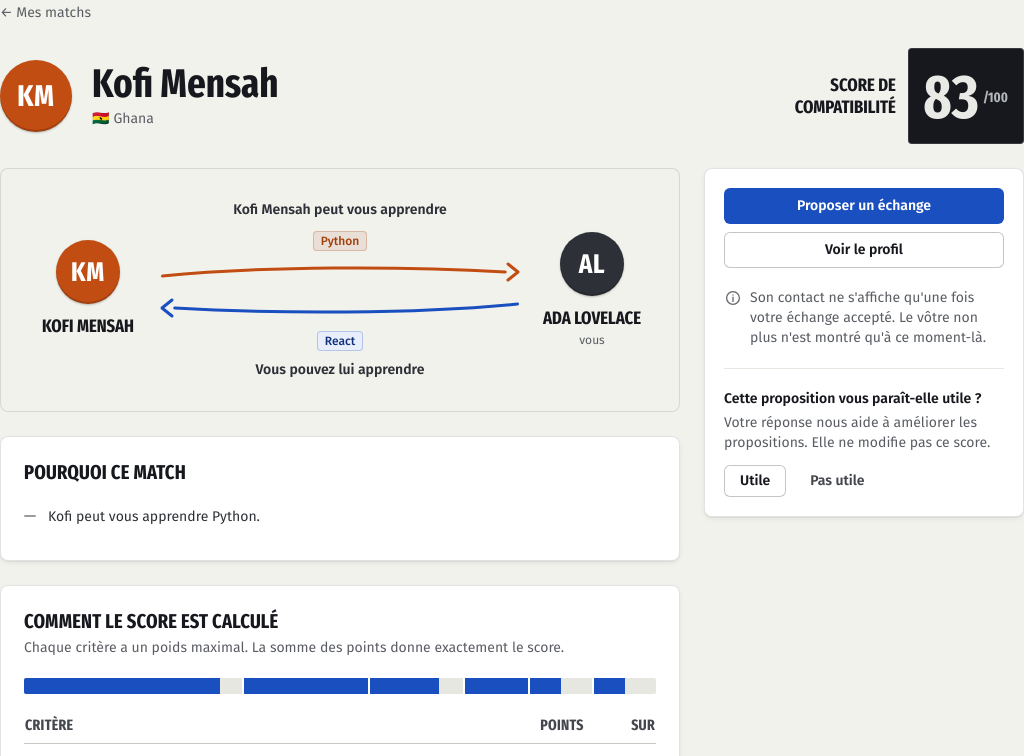
Test: détail d un match › propose un échange
This screenshot has width=1024, height=756.
Click the button "Proposer un échange" at (864, 206), box left=724, top=188, right=1004, bottom=224
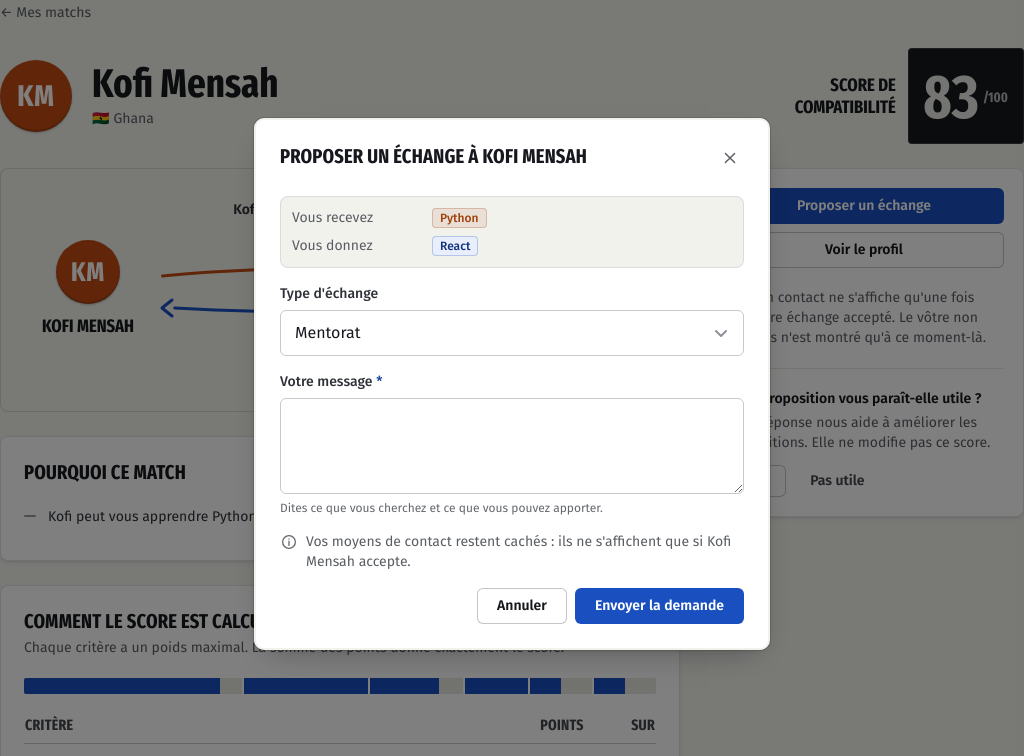
Result: the dialog shows "Vous recevez" at left=292, top=209, right=373, bottom=226
Result: the dialog shows "ne s'affichent que si Kofi Mensah accepte" at left=306, top=533, right=731, bottom=570
Type "Bonjour Kofi" into the text box labelled "Votre message*" at (512, 446), box left=280, top=398, right=744, bottom=494
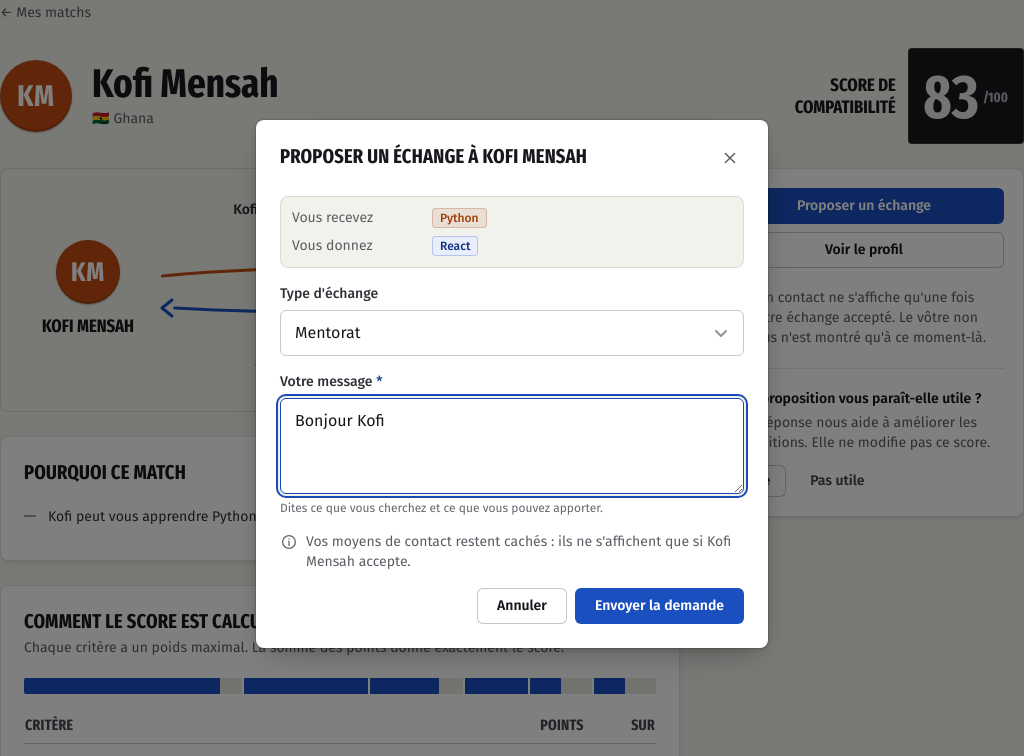
Click the button "Envoyer la demande" at (659, 606), box left=575, top=588, right=744, bottom=624
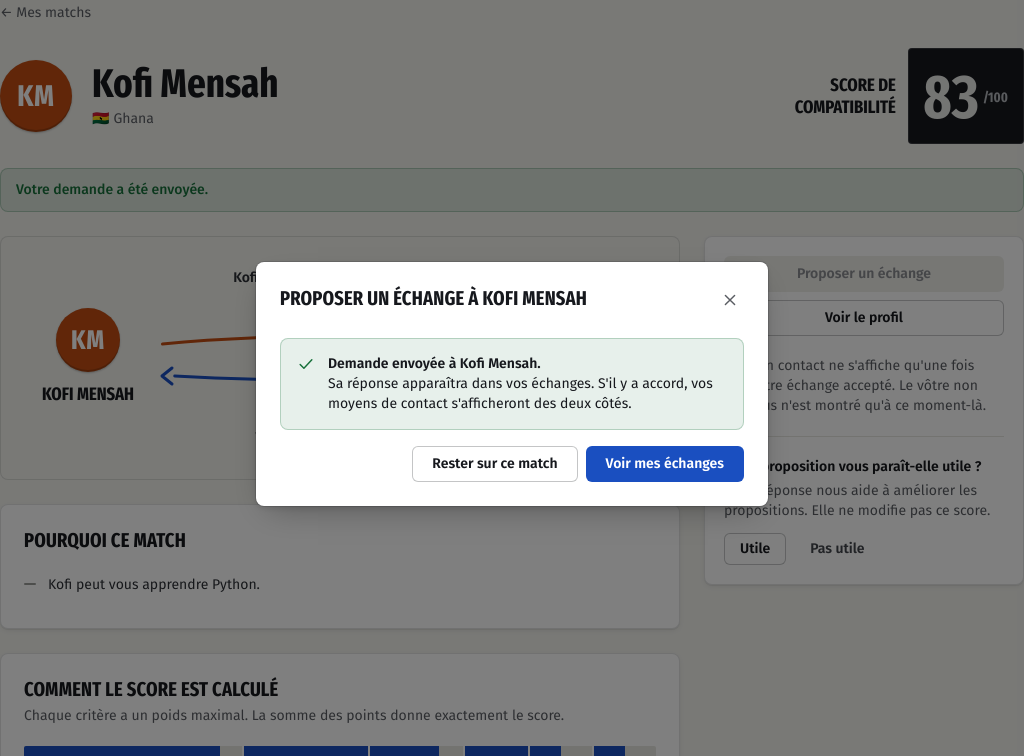
Result: the text "Demande envoyée à Kofi Mensah." is shown at left=328, top=355, right=541, bottom=372
Click the button "Rester sur ce match" at (495, 464), box left=412, top=446, right=578, bottom=482
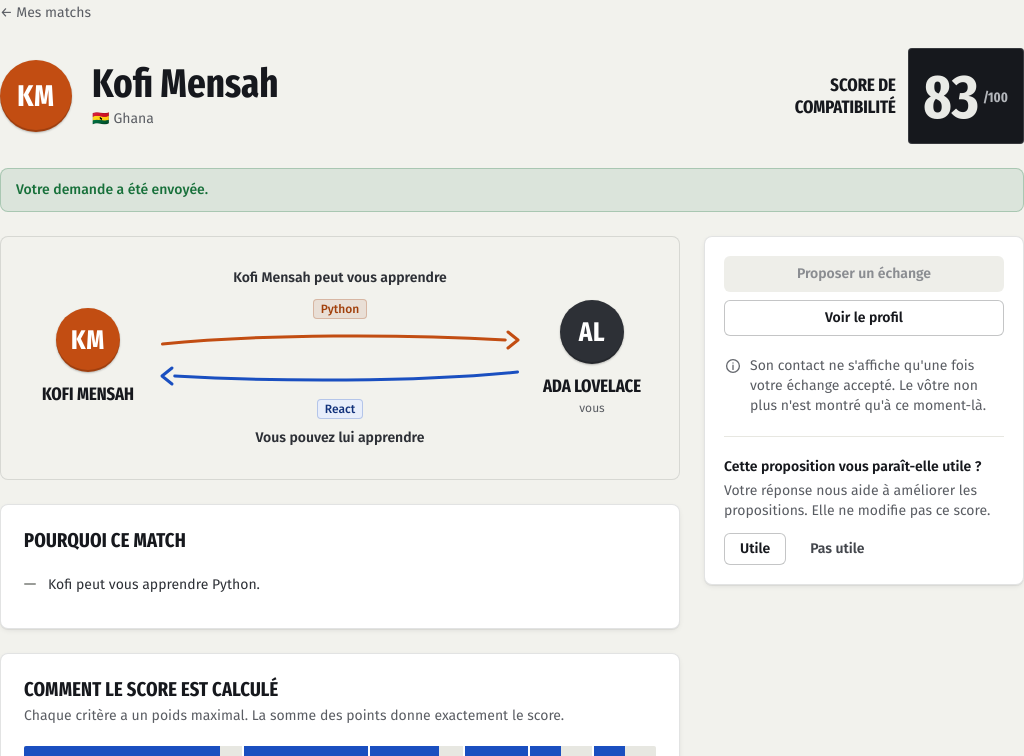
Result: the dialog is gone
